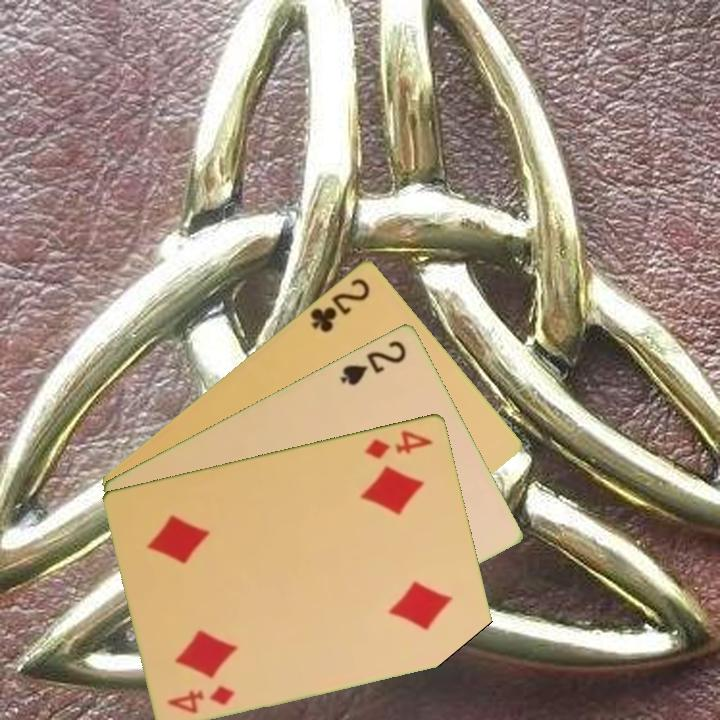2c: (306, 274, 373, 336)
2s: (336, 336, 410, 388)
4d: (361, 426, 436, 462), (164, 681, 238, 716)
